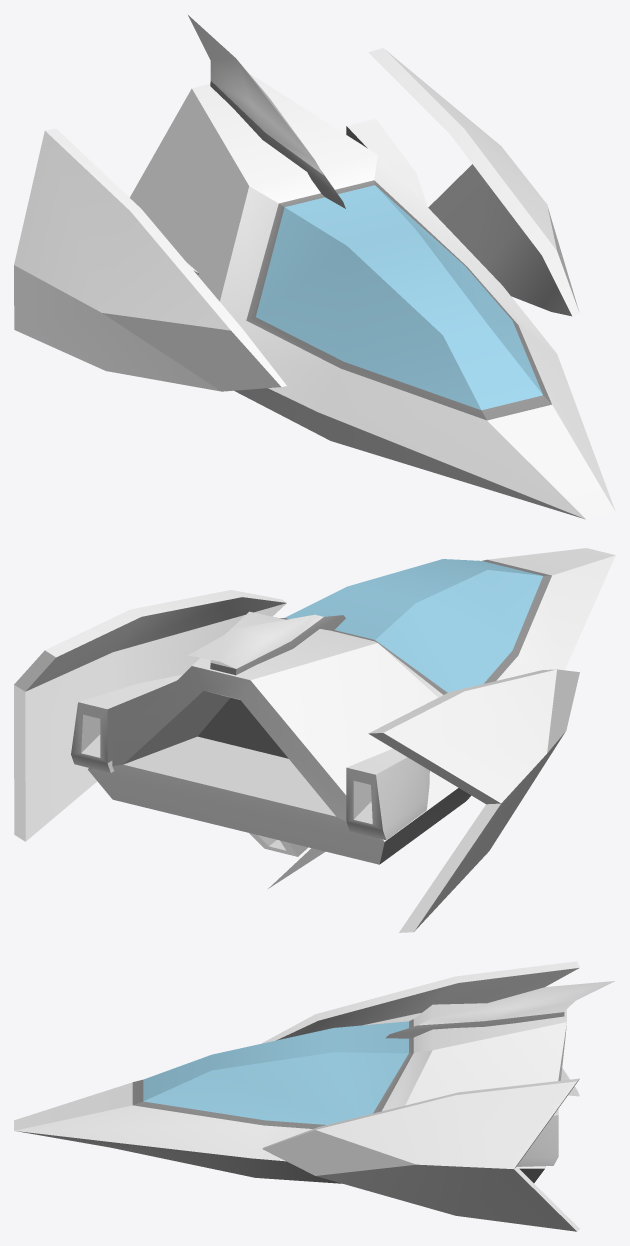
File: spaceship.fbx
3 views of the same model, one above another, from view 1: azimuth 30°, elevation 25°; view 2: azimuth 150°, elevation 25°; view 3: azimuth 270°, elevation 25° (orthographic). The views are drawn at different scales.
Visible parts, largest first — view 1: Cube; view 2: Cube; view 3: Cube.
Part boxes in pixels (box(x1,y1,x2,y2)): Cube: box(14, 15, 615, 519); Cube: box(14, 548, 615, 932); Cube: box(14, 961, 614, 1231).
Size of the model in its own units: 922 by 1356 by 537.
